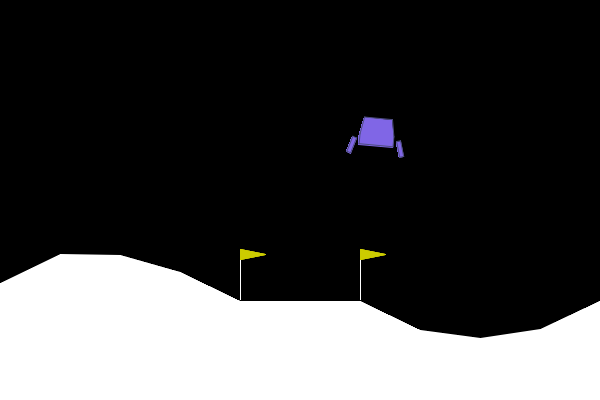lander: (345, 114, 408, 159)
